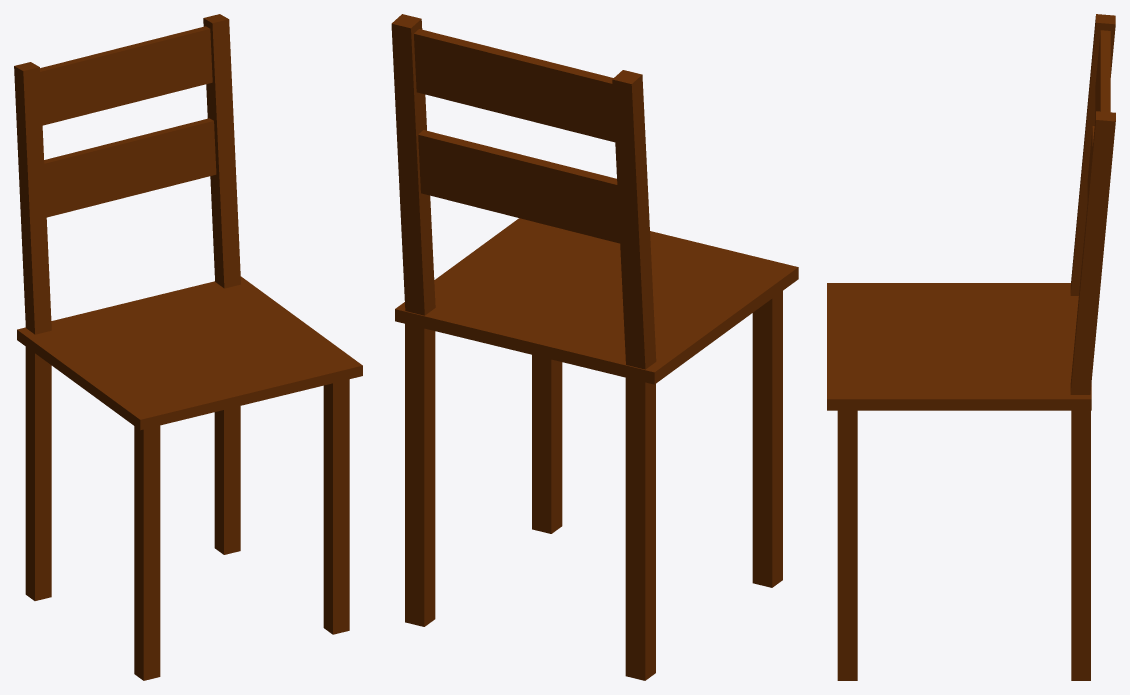
File: chair.glb
3 renders of one model, left to right at view 1: azimuth 30°, elevation 25°; view 2: azimuth 150°, elevation 25°; view 3: azimuth 270°, elevation 25°, orthographic. The views are drawn at different scales.
Parts seen in each view (by area): view 1: Assise_6, Dossier_1_7, Dossier_4, Montant_1, Pied_3_9, Pied_2, Pied_2_3, Montant_1_8, Pied_1_5; view 2: Assise_6, Dossier_4, Dossier_1_7, Pied_2_3, Pied_1_5, Montant_1, Pied_3_9, Montant_1_8, Pied_2; view 3: Assise_6, Montant_1_8, Pied_2, Pied_1_5, Montant_1, Dossier_1_7.
Part boxes in pixels (left/top/right/bottom): Assise_6: left=17, top=276, right=362, bottom=430; Dossier_1_7: left=40, top=26, right=212, bottom=125; Dossier_4: left=44, top=118, right=216, bottom=217; Montant_1: left=14, top=62, right=51, bottom=334; Pied_3_9: left=134, top=425, right=160, bottom=680; Pied_2: left=323, top=379, right=349, bottom=634; Pied_2_3: left=25, top=347, right=51, bottom=600; Montant_1_8: left=203, top=14, right=240, bottom=288; Pied_1_5: left=214, top=406, right=240, bottom=554; Assise_6: left=395, top=218, right=798, bottom=384; Dossier_4: left=418, top=130, right=619, bottom=243; Dossier_1_7: left=414, top=29, right=615, bottom=142; Pied_2_3: left=625, top=377, right=655, bottom=680; Pied_1_5: left=405, top=324, right=435, bottom=626; Montant_1: left=612, top=70, right=656, bottom=369; Pied_3_9: left=752, top=291, right=782, bottom=587; Montant_1_8: left=391, top=14, right=435, bottom=315; Pied_2: left=532, top=355, right=562, bottom=533; Assise_6: left=827, top=283, right=1091, bottom=410; Montant_1_8: left=1070, top=111, right=1115, bottom=394; Pied_2: left=837, top=410, right=857, bottom=680; Pied_1_5: left=1071, top=410, right=1090, bottom=680; Montant_1: left=1070, top=14, right=1115, bottom=295; Dossier_1_7: left=1095, top=30, right=1110, bottom=117.
Bounding box in the file's own units: 40.01 × 89.85 × 41.91.
